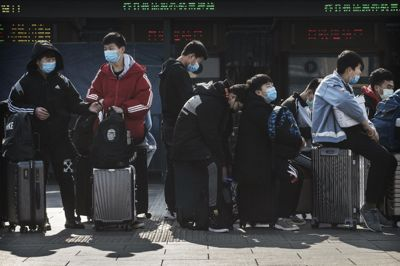with-mask: (335, 47, 367, 86), (248, 72, 281, 109), (100, 33, 132, 71), (32, 45, 64, 78), (177, 43, 210, 75), (371, 64, 395, 103)
